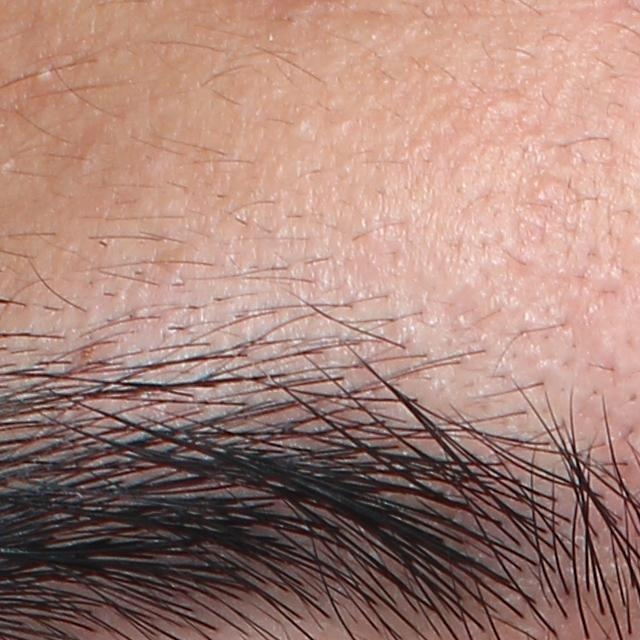comedo: (283, 108, 319, 148), (487, 90, 521, 123), (31, 61, 52, 84)
